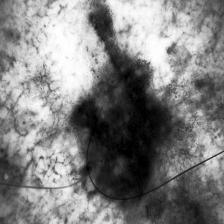Benign Marking or Mole: (78, 4, 174, 202)
